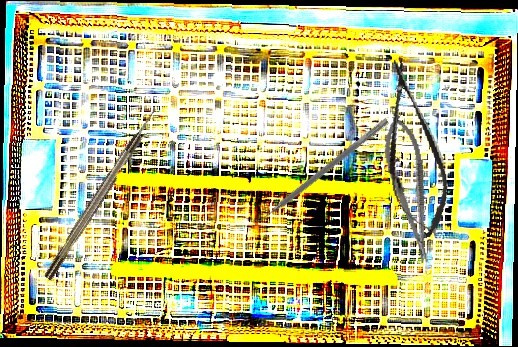Hook Surgical: (42, 106, 161, 281)
Micro Scissor: (369, 54, 457, 243)
Needle Holder: (377, 112, 442, 267)
Spatula Surgical: (248, 112, 390, 230)
